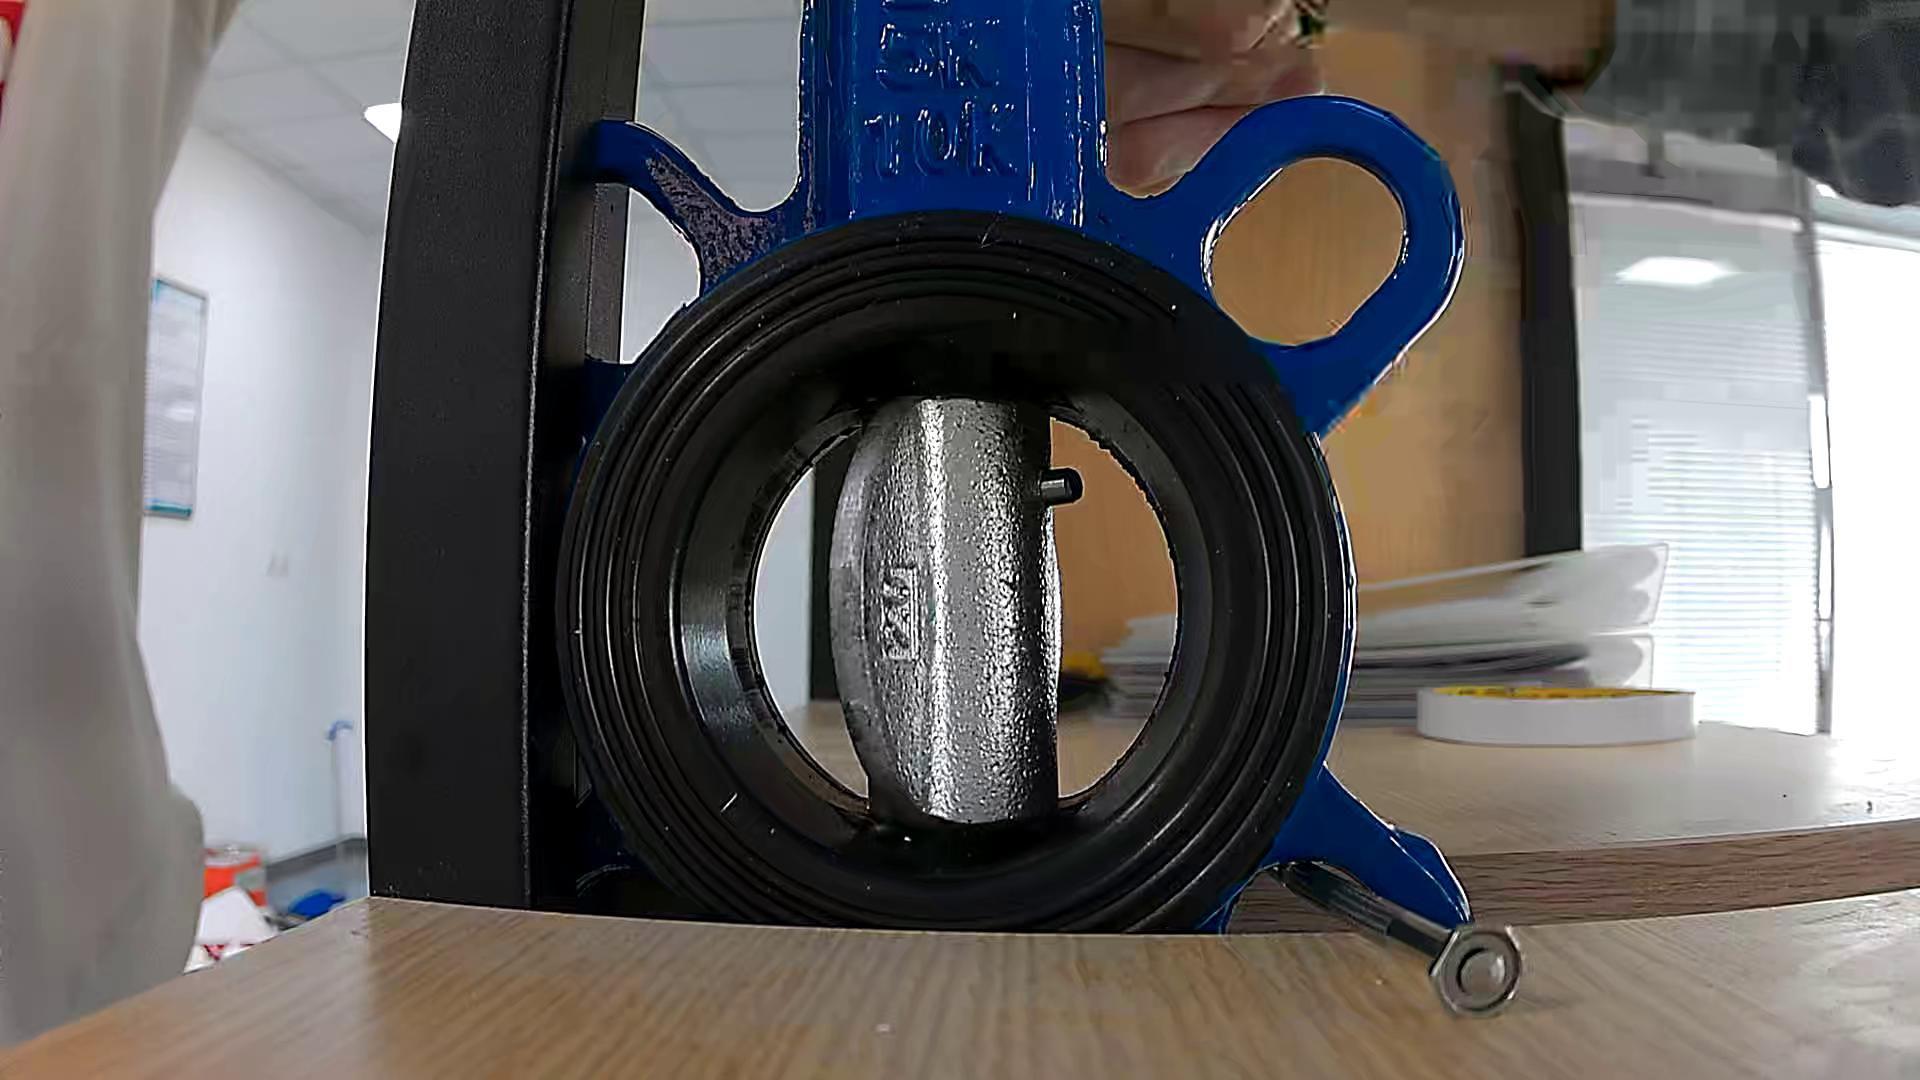valve: (828, 397, 1063, 825)
